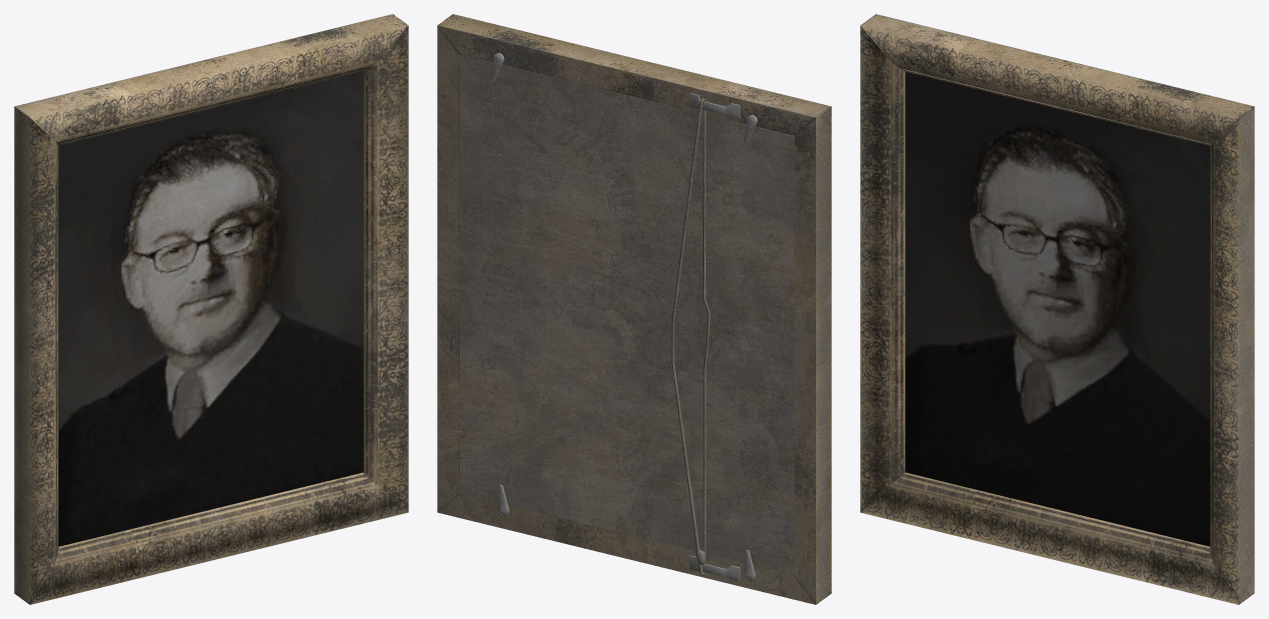
File: 016_Picture.fbx
The picture shows the model from 3 angles, left to right: view 1: azimuth 30°, elevation 25°; view 2: azimuth 150°, elevation 25°; view 3: azimuth 330°, elevation 25°; orthographic projection.
Visible parts, largest first — view 1: LOD_1_Group_0_Sub_2__sm32_013_PictureFrame01A_A_Mat, LOD_1_Group_0_Sub_1__sm32_016_PictureFrame01D_A_Mat; view 2: LOD_1_Group_0_Sub_1__sm32_016_PictureFrame01D_A_Mat; view 3: LOD_1_Group_0_Sub_2__sm32_013_PictureFrame01A_A_Mat, LOD_1_Group_0_Sub_1__sm32_016_PictureFrame01D_A_Mat.
Boxes of the visible parts, x1,y1,x2,y2 form: LOD_1_Group_0_Sub_2__sm32_013_PictureFrame01A_A_Mat: (58, 71, 363, 546); LOD_1_Group_0_Sub_1__sm32_016_PictureFrame01D_A_Mat: (14, 14, 408, 604); LOD_1_Group_0_Sub_1__sm32_016_PictureFrame01D_A_Mat: (437, 14, 831, 604); LOD_1_Group_0_Sub_2__sm32_013_PictureFrame01A_A_Mat: (905, 71, 1210, 546); LOD_1_Group_0_Sub_1__sm32_016_PictureFrame01D_A_Mat: (860, 14, 1254, 604).
Bounding box in the file's own units: 0.5383 × 0.6619 × 0.0531.
